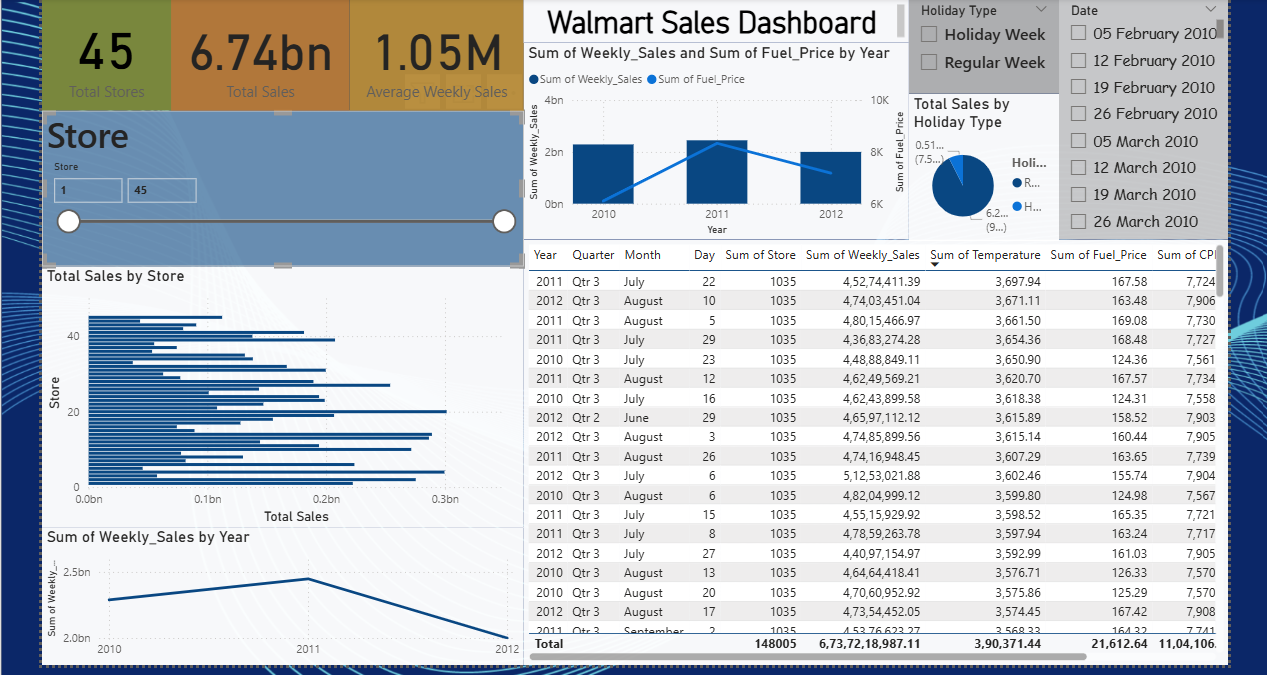

The dashboard page shown, as its layout file describes it:
{"tool":"powerbi","page":{"name":"Page 1","canvas":[1280,720],"ordinal":0},"visuals":[{"type":"lineChart","fields":{"Category":["Walmart.Date.Variation.Date Hierarchy.Year","Walmart.Date.Variation.Date Hierarchy.Quarter","Walmart.Date.Variation.Date Hierarchy.Month","Walmart.Date.Variation.Date Hierarchy.Day"],"Y":["Sum(Walmart.Weekly_Sales)"]},"box":[0,571.6,519.8,149],"z":1},{"type":"clusteredBarChart","fields":{"Category":["Walmart.Store"],"Y":["Walmart.Total Sales"]},"box":[0,289.8,519.8,281.7],"z":2},{"type":"pieChart","fields":{"Category":["Walmart.Holiday Type"],"Y":["Walmart.Total Sales"]},"box":[935.9,103.6,161.9,158.7],"z":3},{"type":"lineClusteredColumnComboChart","fields":{"Category":["Walmart.Date.Variation.Date Hierarchy.Year","Walmart.Date.Variation.Date Hierarchy.Quarter","Walmart.Date.Variation.Date Hierarchy.Month","Walmart.Date.Variation.Date Hierarchy.Day"],"Y":["Sum(Walmart.Weekly_Sales)"],"Y2":["Sum(Walmart.Fuel_Price)"]},"box":[519.8,48.6,416.1,212.1],"z":4},{"type":"tableEx","fields":{"Values":["Walmart.Date.Variation.Date Hierarchy.Year","Walmart.Date.Variation.Date Hierarchy.Quarter","Walmart.Date.Variation.Date Hierarchy.Month","Walmart.Date.Variation.Date Hierarchy.Day","Sum(Walmart.Store)","Sum(Walmart.Weekly_Sales)","Sum(Walmart.Temperature)","Sum(Walmart.Fuel_Price)","Sum(Walmart.CPI)","Sum(Walmart.Unemployment)"]},"box":[519.8,260.7,761,459.9],"z":5},{"type":"slicer","fields":{"Values":["Walmart.Date"]},"box":[1097.8,0,183,260.7],"z":6},{"type":"slicer","title":"Store","fields":{"Values":["Walmart.Store"]},"box":[0,121.4,519.8,168.4],"z":7},{"type":"slicer","fields":{"Values":["Walmart.Holiday Type"]},"box":[935.9,0,161.9,103.6],"z":8},{"type":"card","fields":{"Values":["Walmart.Total Sales"]},"box":[139.3,1.6,192.7,119.8],"z":9},{"type":"card","fields":{"Values":["Walmart.Average Weekly Sales"]},"box":[331.9,1.6,187.8,119.8],"z":10},{"type":"card","fields":{"Values":["Walmart.Total Stores"]},"box":[0,0,139.3,121.4],"z":11},{"type":"textbox","box":[519.8,1.6,416.1,47],"z":13}]}

Visuals, with their boxes on the page's 1280x720 design canvas (x1, y1, x2, y2). These are canvas units, not pixel positions in the 1267x675 screenshot, which may show the page scaled, cropped or inside an application window:
lineChart - Walmart.Date.Variation.Date Hierarchy.Year x Walmart.Date.Variation.Date Hierarchy.Quarter: locate(0, 572, 520, 721)
clusteredBarChart - Walmart.Store x Walmart.Total Sales: locate(0, 290, 520, 572)
pieChart - Walmart.Holiday Type x Walmart.Total Sales: locate(936, 104, 1098, 262)
lineClusteredColumnComboChart - Walmart.Date.Variation.Date Hierarchy.Year x Walmart.Date.Variation.Date Hierarchy.Quarter: locate(520, 49, 936, 261)
tableEx - Walmart.Date.Variation.Date Hierarchy.Year x Walmart.Date.Variation.Date Hierarchy.Quarter: locate(520, 261, 1281, 721)
slicer - Walmart.Date: locate(1098, 0, 1281, 261)
"Store" slicer: locate(0, 121, 520, 290)
slicer - Walmart.Holiday Type: locate(936, 0, 1098, 104)
card - Walmart.Total Sales: locate(139, 2, 332, 121)
card - Walmart.Average Weekly Sales: locate(332, 2, 520, 121)
card - Walmart.Total Stores: locate(0, 0, 139, 121)
textbox: locate(520, 2, 936, 49)
